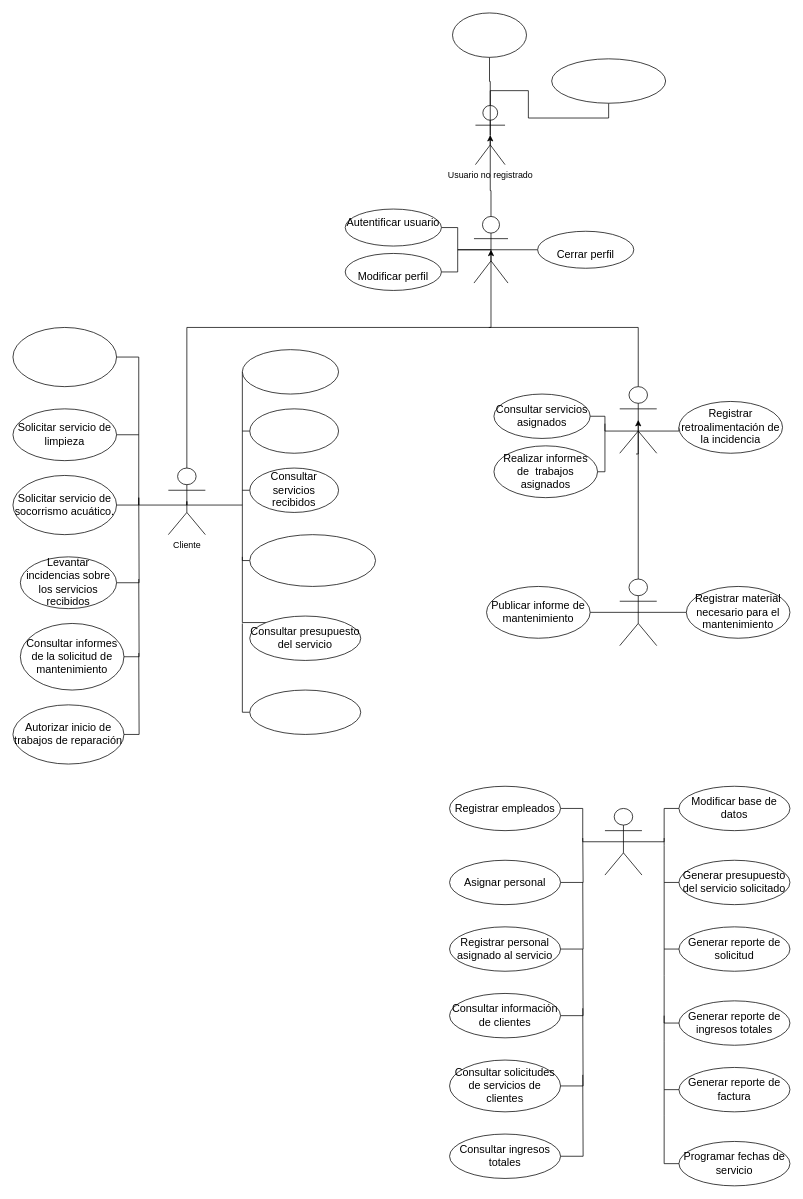
This 803x1199 diagram has some shape labels left out. The shapes that lost their labels are listed below. From the top down, each one's centre as x and y in pixels, then its label:
the point at 489,34: Registrar usuario
the point at 608,80: Consultar información de la empresa
the point at 490,249: Usuario Registrado
the point at 64,357: Solicitar servicio de mantenimiento
the point at 290,371: Consultar facturas de pago
the point at 294,430: Consultar incidencias
the point at 638,419: Empleado
the point at 312,560: Consultar datos de los empleados asignados al servicio
the point at 638,612: Supervisor
the point at 305,711: Autorizar presupuesto del servicio
the point at 623,841: Administrador
